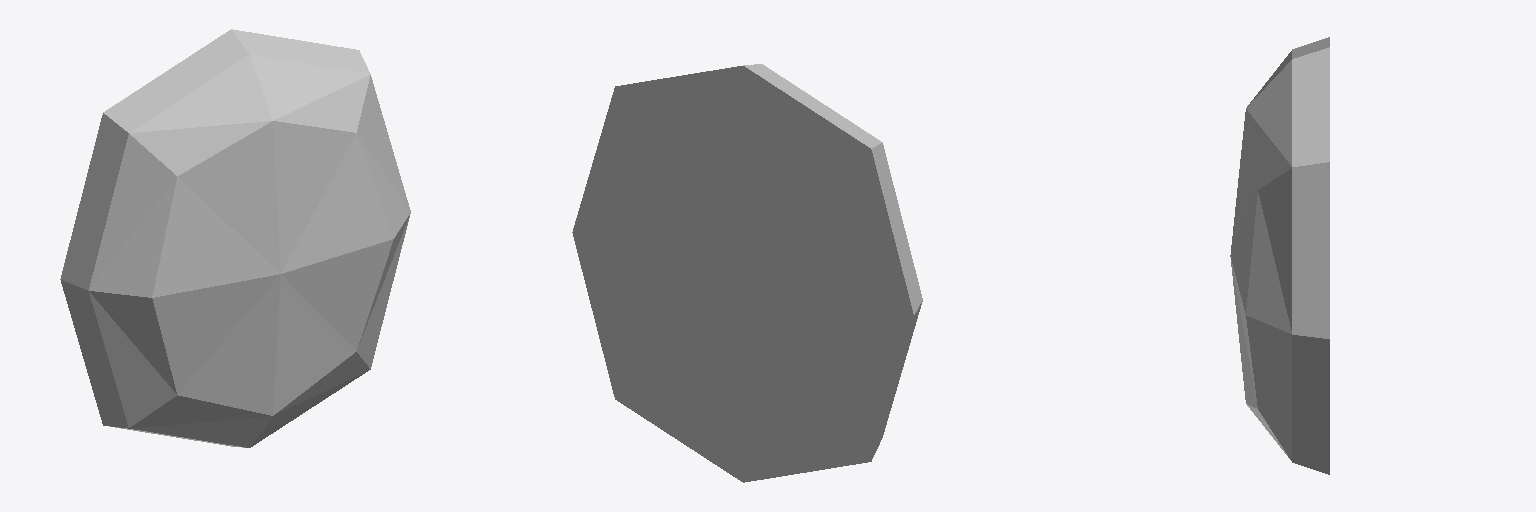
Rendered from crystal_marker_cullface.obj.
The picture shows the model from 3 angles: view 1: azimuth 30°, elevation 25°; view 2: azimuth 150°, elevation 25°; view 3: azimuth 270°, elevation 25°; orthographic projection.
Visible parts, largest first — view 1: none; view 2: none; view 3: none.
Boxes of the visible parts, <box> form: none: <box>60,29,410,447</box>; none: <box>572,64,922,482</box>; none: <box>1230,37,1329,474</box>.
Size of the model in its own units: 0.636 by 0.742 by 0.16.